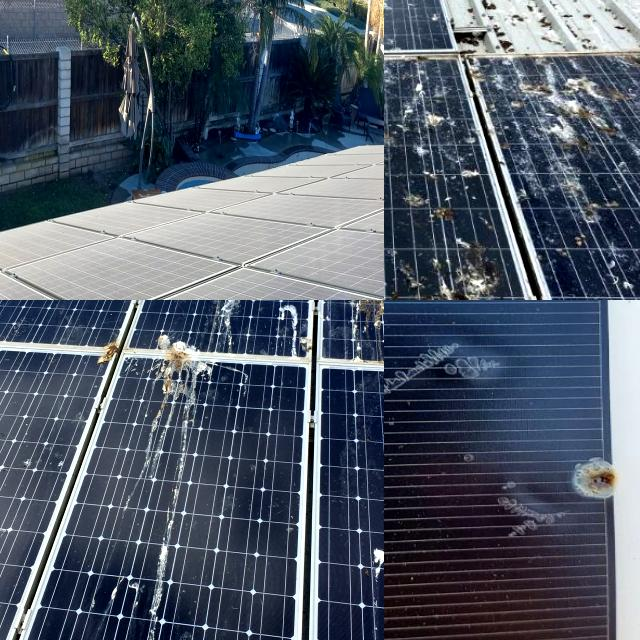bird: (498, 75, 640, 158), (384, 140, 477, 224), (147, 328, 222, 426), (444, 245, 524, 300), (0, 300, 83, 353), (384, 59, 449, 124), (0, 340, 36, 440), (384, 236, 440, 300), (247, 300, 306, 360), (384, 234, 436, 300), (384, 89, 416, 196), (384, 207, 422, 294), (89, 334, 139, 400), (335, 300, 384, 360), (384, 64, 424, 136), (0, 523, 35, 600), (345, 534, 384, 595), (0, 567, 30, 640), (340, 300, 384, 346), (384, 0, 440, 35), (384, 241, 413, 300), (207, 300, 266, 328), (149, 300, 197, 331), (241, 300, 272, 330)
dust: (19, 225, 129, 300), (290, 167, 362, 272), (174, 198, 280, 254)
shadow: (552, 438, 639, 528)
